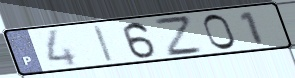0: (201, 12, 239, 51)
1: (238, 10, 267, 45)
4: (44, 28, 82, 68)
6: (120, 20, 158, 59)
I: (91, 23, 117, 64)
Z: (151, 15, 207, 58)
